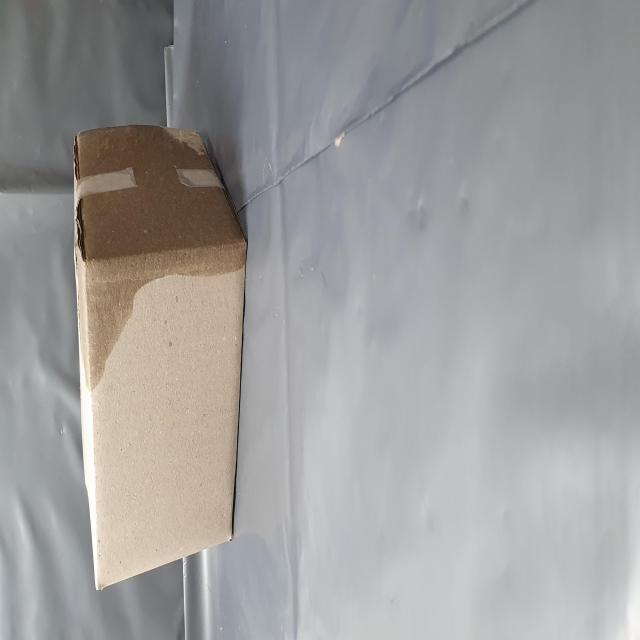wet: (146, 125, 290, 434)
